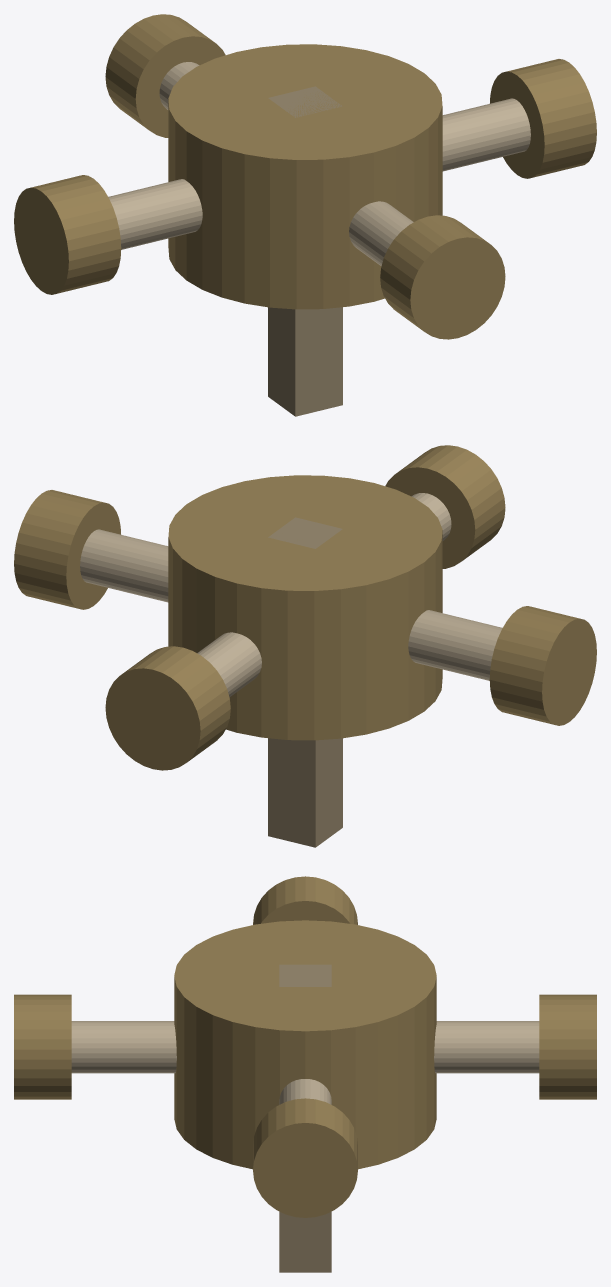
File: button2.glb
The picture shows the model from 3 angles, top to bottom: view 1: azimuth 30°, elevation 25°; view 2: azimuth 150°, elevation 25°; view 3: azimuth 270°, elevation 25°; orthographic projection. The views are drawn at different scales.
Visible parts, largest first — view 1: 柱体, 柱体.005, 柱体.007, Cube.001, 柱体.006, 柱体.008, 柱体.003, 柱体.002, 柱体.004, 柱体.001; view 2: 柱体, 柱体.008, 柱体.007, Cube.001, 柱体.006, 柱体.005, 柱体.003, 柱体.002, 柱体.001, 柱体.004; view 3: 柱体, 柱体.006, 柱体.005, 柱体.008, 柱体.001, 柱体.004, Cube.001, 柱体.007, 柱体.003.
Boxes of the visible parts, x1=… form: 柱体: x1=168, y1=44, x2=442, y2=309; 柱体.005: x1=380, y1=215, x2=505, y2=339; 柱体.007: x1=14, y1=175, x2=121, y2=294; Cube.001: x1=268, y1=86, x2=342, y2=416; 柱体.006: x1=490, y1=59, x2=596, y2=178; 柱体.008: x1=105, y1=14, x2=225, y2=137; 柱体.003: x1=442, y1=98, x2=530, y2=171; 柱体.002: x1=108, y1=179, x2=202, y2=249; 柱体.004: x1=349, y1=201, x2=413, y2=266; 柱体.001: x1=159, y1=62, x2=199, y2=109; 柱体: x1=168, y1=475, x2=442, y2=740; 柱体.008: x1=105, y1=646, x2=230, y2=770; 柱体.007: x1=489, y1=606, x2=596, y2=725; Cube.001: x1=268, y1=517, x2=342, y2=847; 柱体.006: x1=14, y1=490, x2=120, y2=609; 柱体.005: x1=385, y1=445, x2=505, y2=568; 柱体.003: x1=80, y1=529, x2=168, y2=602; 柱体.002: x1=408, y1=610, x2=502, y2=680; 柱体.001: x1=197, y1=632, x2=261, y2=697; 柱体.004: x1=411, y1=493, x2=451, y2=540; 柱体: x1=174, y1=920, x2=436, y2=1169; 柱体.006: x1=253, y1=1098, x2=357, y2=1217; 柱体.005: x1=14, y1=994, x2=71, y2=1099; 柱体.008: x1=539, y1=994, x2=596, y2=1099; 柱体.001: x1=434, y1=1021, x2=539, y2=1073; 柱体.004: x1=71, y1=1021, x2=176, y2=1073; Cube.001: x1=279, y1=964, x2=331, y2=1272; 柱体.007: x1=253, y1=876, x2=357, y2=924; 柱体.003: x1=279, y1=1079, x2=331, y2=1104.
Size of the model in its own units: 2.22 by 1.2 by 2.22.
